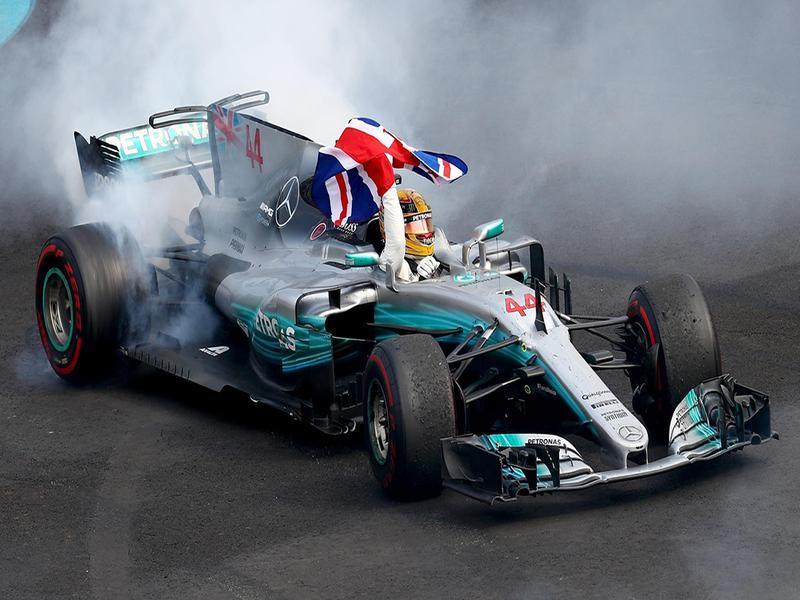f1: (27, 98, 800, 535)
